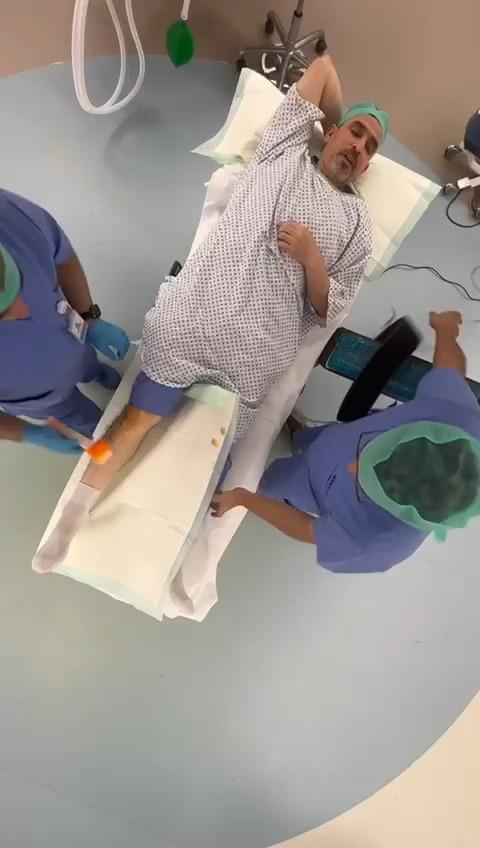patient: (33, 55, 388, 571)
prepstick: (48, 417, 113, 464)
